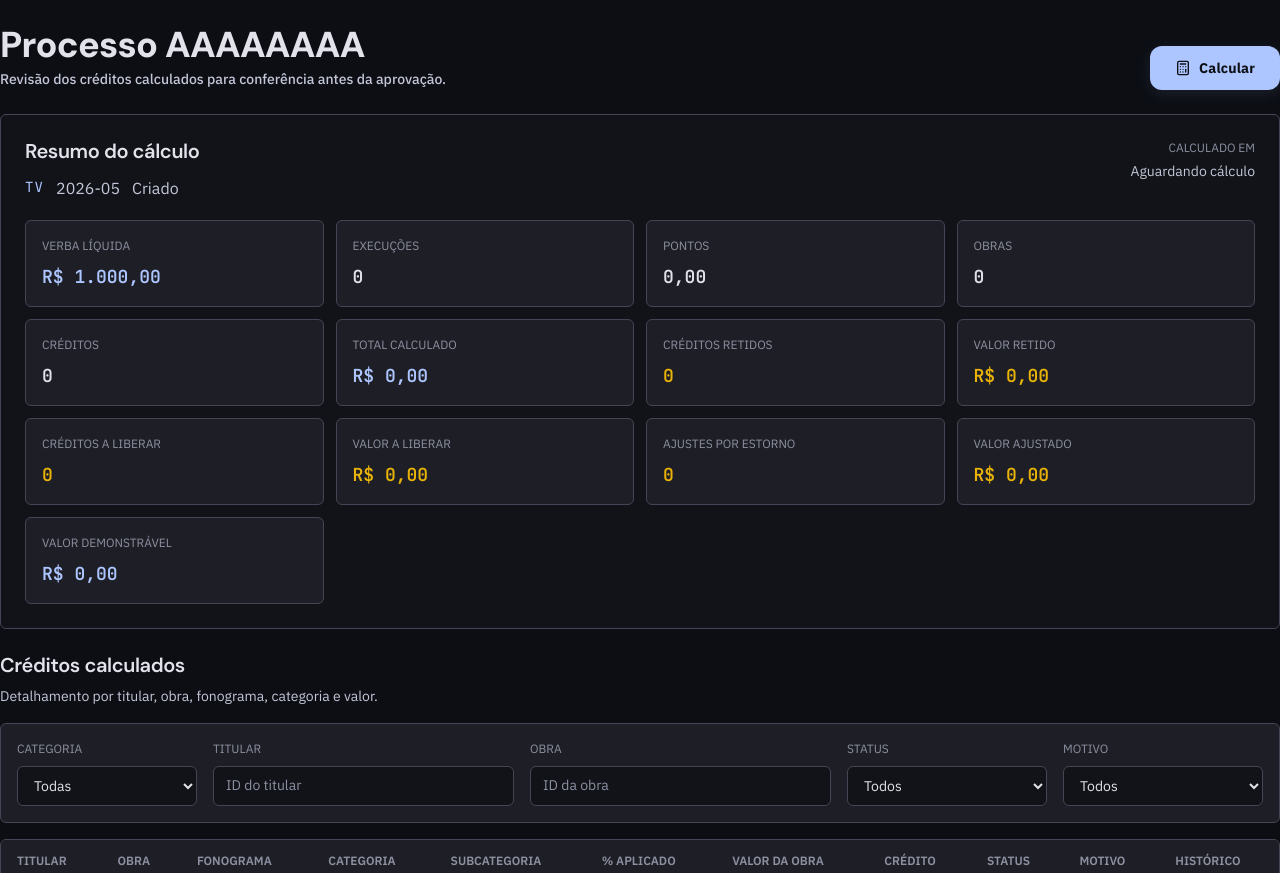
Test: ProcessoCalculoPage › refreshes review data after analyst clicks calculate
Click the button "Calcular".
click(1215, 68)  # box [1150,46,1279,90]
(page scrolled)
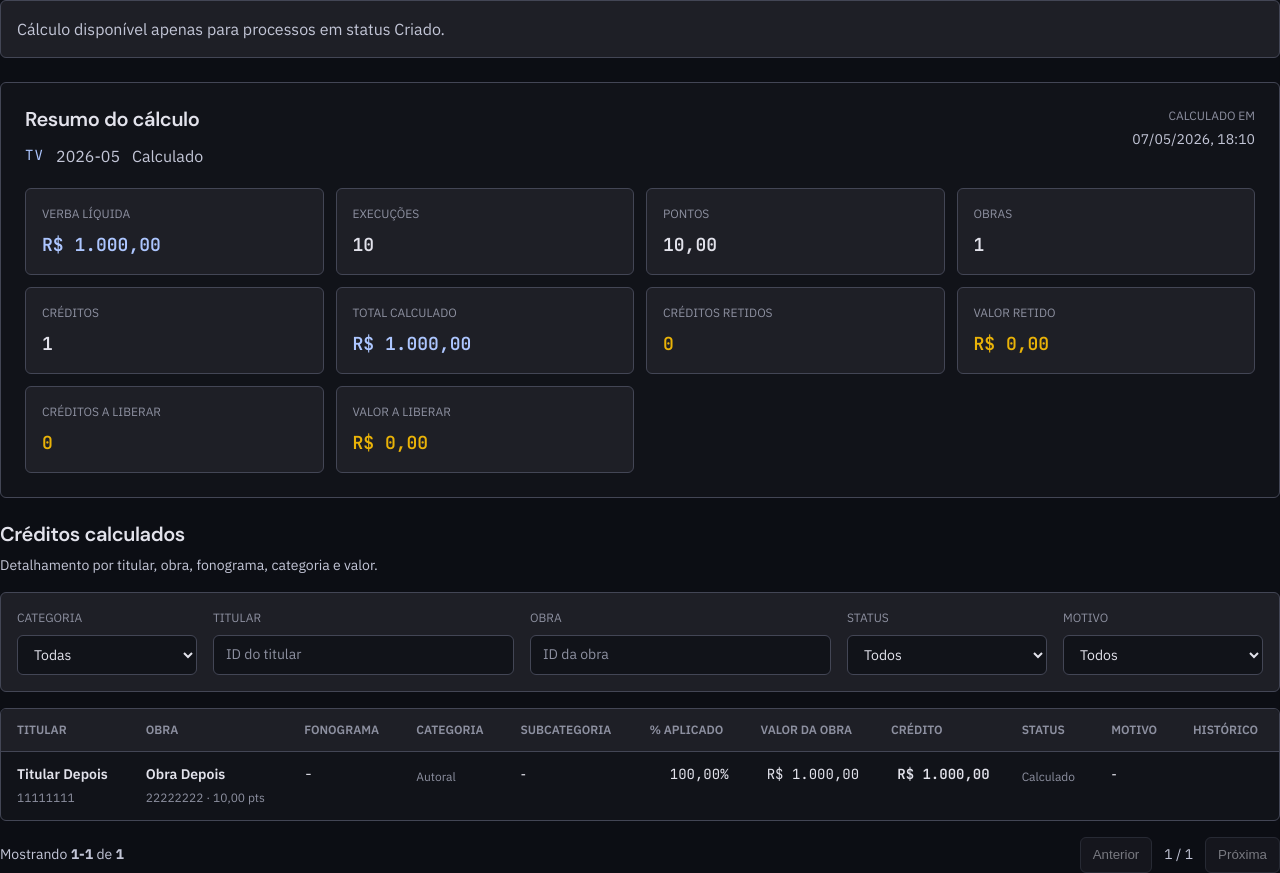
expect the text "Titular Depois" is shown: met, box [17,764,114,785]
